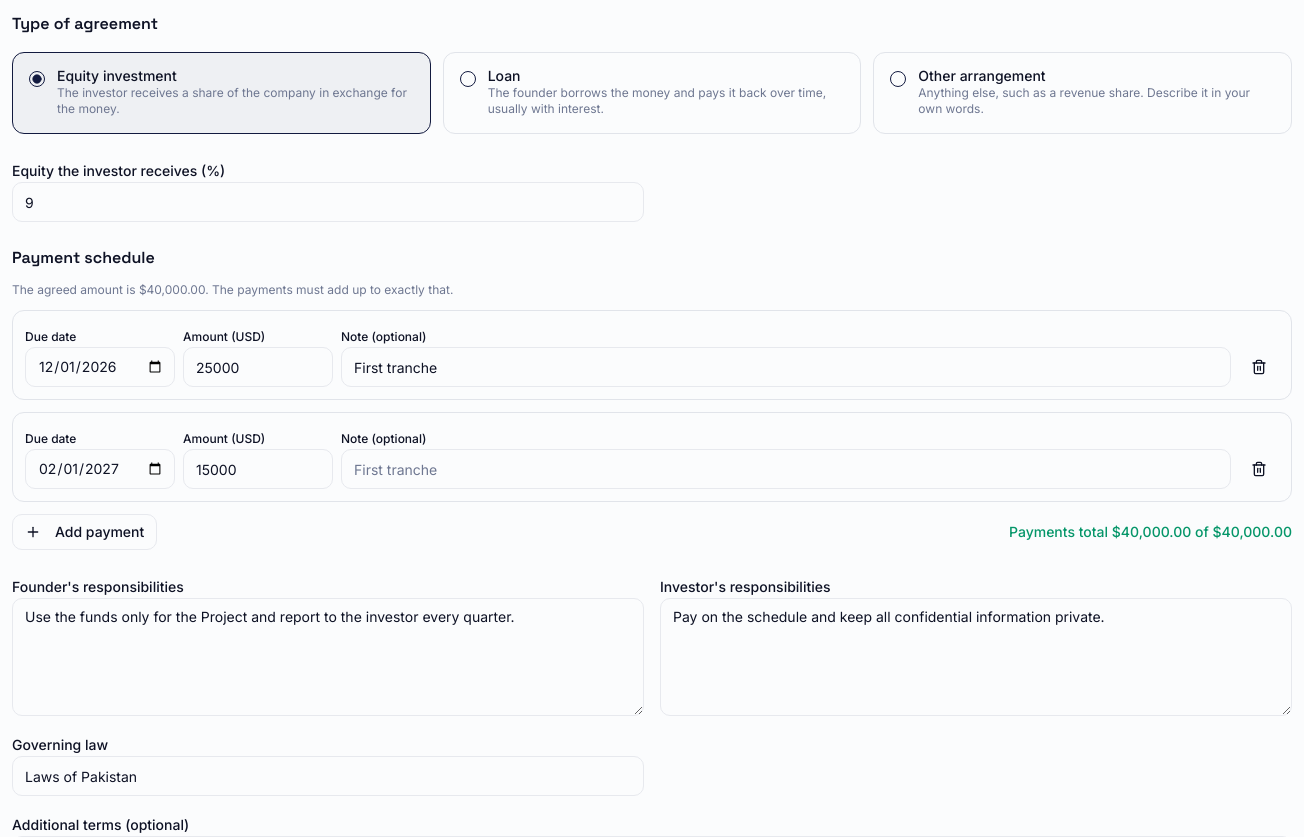
Test case: agreement terms form › shows the running total of the payments against the agreed amount
Expected: the text with test id "payments-total" reads "Payments total $40,000.00 of $40,000.00", [1009,522,1292,542]
Replace the text in the number field named "Payment 2 amount" with "10000" at (258, 469), box [183,449,333,489]
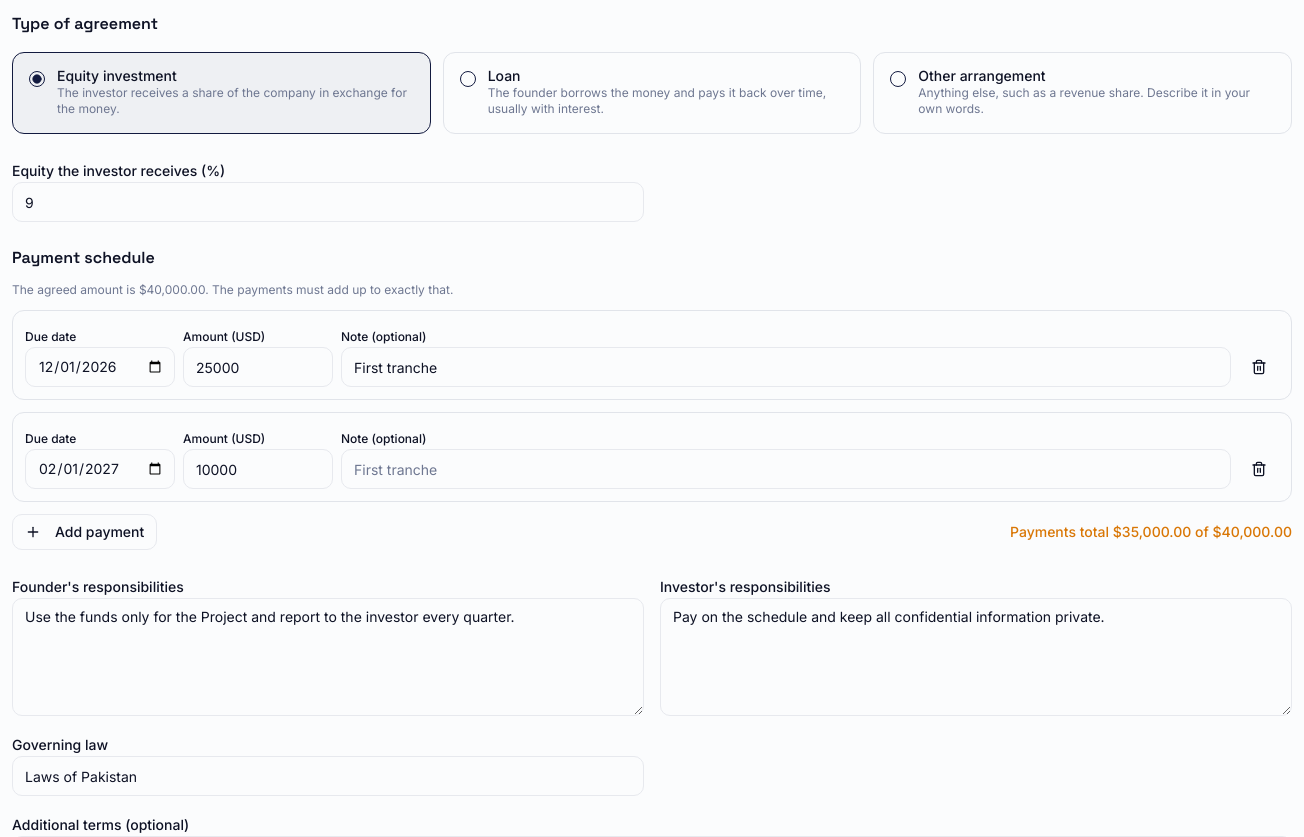
Expected: the text with test id "payments-total" reads "Payments total $35,000.00 of $40,000.00", [1010,522,1292,542]
